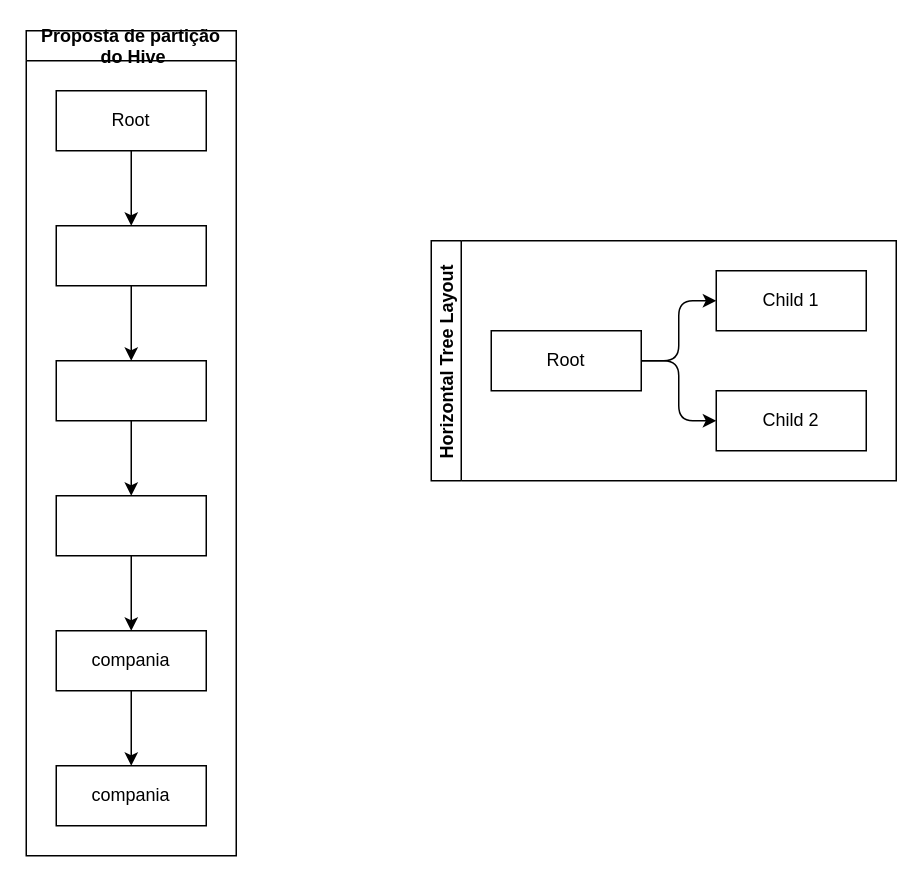
Image size: 923x882. Some labels were removed from this diagram. Each missing label, with the centre of its shape:
Aeroporto: (x=130, y=525)
Mês: (x=130, y=255)
uf: (x=130, y=390)
